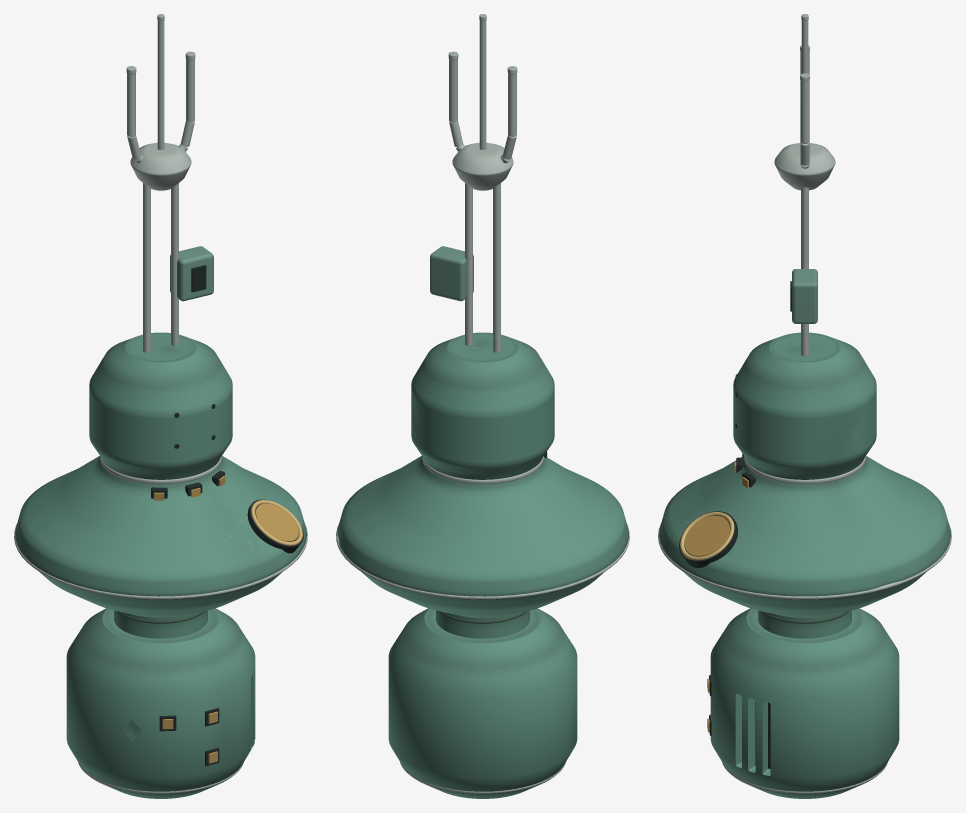
3 views of the same model, side by side, from view 1: azimuth 30°, elevation 25°; view 2: azimuth 150°, elevation 25°; view 3: azimuth 270°, elevation 25° (orthographic).
Parts seen in each view (by area): view 1: RI08 flared middle housing, RI08 lower intake drum, RI08 rounded upper head, RI08 silver crown fork bowl, RI08 solid connecting neck, RI08 support-mounted side equipment casing, RI08 twin upper support, RI08 twin upper support.001, RI08 middle perimeter seam, RI08 large circular brass pressure face, RI08 silver central conductor, RI08 head lower machined joint (+4 smaller); view 2: RI08 flared middle housing, RI08 lower intake drum, RI08 rounded upper head, RI08 silver crown fork bowl, RI08 support-mounted side equipment casing, RI08 solid connecting neck, RI08 twin upper support, RI08 twin upper support.001, RI08 middle perimeter seam, RI08 silver central conductor, RI08 head lower machined joint, RI08 silver outer conductor.002 (+1 smaller); view 3: RI08 flared middle housing, RI08 lower intake drum, RI08 rounded upper head, RI08 silver crown fork bowl, RI08 solid connecting neck, RI08 support-mounted side equipment casing, RI08 large circular brass pressure face, RI08 middle perimeter seam, RI08 twin upper support.001, RI08 large circular rubbed retaining ring, RI08 silver outer conductor.005, RI08 head lower machined joint (+1 smaller).
Part boxes in pixels (x1=…): RI08 flared middle housing: x1=15, y1=456, x2=306, y2=617; RI08 lower intake drum: x1=66, y1=608, x2=255, y2=798; RI08 rounded upper head: x1=89, y1=332, x2=232, y2=479; RI08 silver crown fork bowl: x1=130, y1=142, x2=191, y2=190; RI08 solid connecting neck: x1=114, y1=610, x2=207, y2=638; RI08 support-mounted side equipment casing: x1=170, y1=246, x2=213, y2=301; RI08 twin upper support: x1=143, y1=183, x2=150, y2=352; RI08 twin upper support.001: x1=171, y1=183, x2=178, y2=345; RI08 middle perimeter seam: x1=14, y1=524, x2=307, y2=599; RI08 large circular brass pressure face: x1=255, y1=503, x2=298, y2=541; RI08 silver central conductor: x1=157, y1=20, x2=164, y2=149; RI08 head lower machined joint: x1=100, y1=456, x2=221, y2=484; RI08 flared middle housing: x1=337, y1=456, x2=628, y2=617; RI08 lower intake drum: x1=388, y1=608, x2=577, y2=798; RI08 rounded upper head: x1=411, y1=332, x2=554, y2=479; RI08 silver crown fork bowl: x1=452, y1=142, x2=513, y2=190; RI08 support-mounted side equipment casing: x1=430, y1=246, x2=473, y2=301; RI08 solid connecting neck: x1=436, y1=610, x2=529, y2=638; RI08 twin upper support: x1=493, y1=183, x2=500, y2=352; RI08 twin upper support.001: x1=465, y1=183, x2=472, y2=345; RI08 middle perimeter seam: x1=336, y1=524, x2=629, y2=599; RI08 silver central conductor: x1=479, y1=20, x2=486, y2=149; RI08 head lower machined joint: x1=422, y1=456, x2=543, y2=484; RI08 silver outer conductor.002: x1=508, y1=73, x2=516, y2=136; RI08 flared middle housing: x1=659, y1=456, x2=950, y2=617; RI08 lower intake drum: x1=710, y1=608, x2=899, y2=798; RI08 rounded upper head: x1=733, y1=332, x2=876, y2=479; RI08 silver crown fork bowl: x1=774, y1=143, x2=835, y2=190; RI08 solid connecting neck: x1=758, y1=610, x2=851, y2=638; RI08 support-mounted side equipment casing: x1=792, y1=269, x2=817, y2=323; RI08 large circular brass pressure face: x1=684, y1=516, x2=729, y2=556; RI08 middle perimeter seam: x1=658, y1=523, x2=951, y2=599; RI08 twin upper support.001: x1=801, y1=187, x2=808, y2=355; RI08 large circular rubbed retaining ring: x1=680, y1=512, x2=734, y2=560; RI08 silver outer conductor.005: x1=800, y1=80, x2=809, y2=143; RI08 head lower machined joint: x1=744, y1=456, x2=865, y2=484.
Bounding box in the file's own units: 1.81 × 5.15 × 1.81.
Materials: 8 (2 with a texture image).
